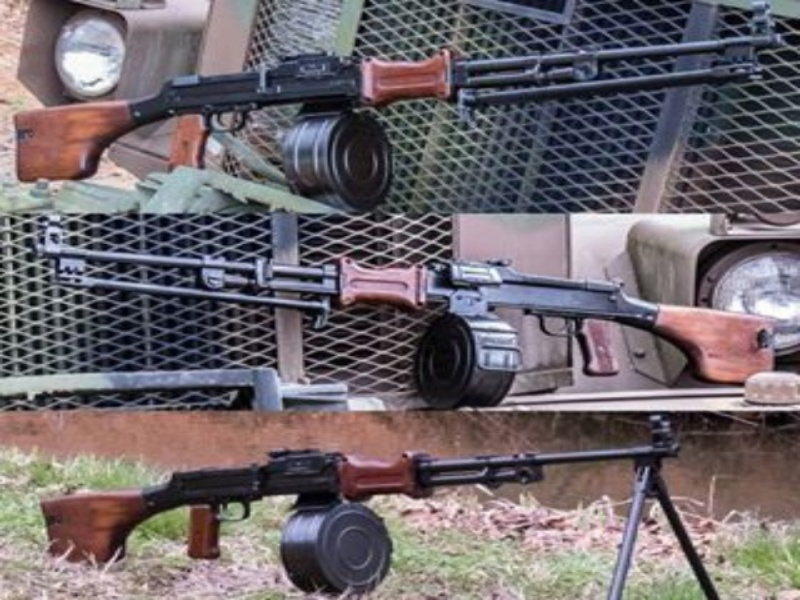weapon: (12, 1, 783, 213), (35, 215, 776, 405), (43, 412, 717, 600)
